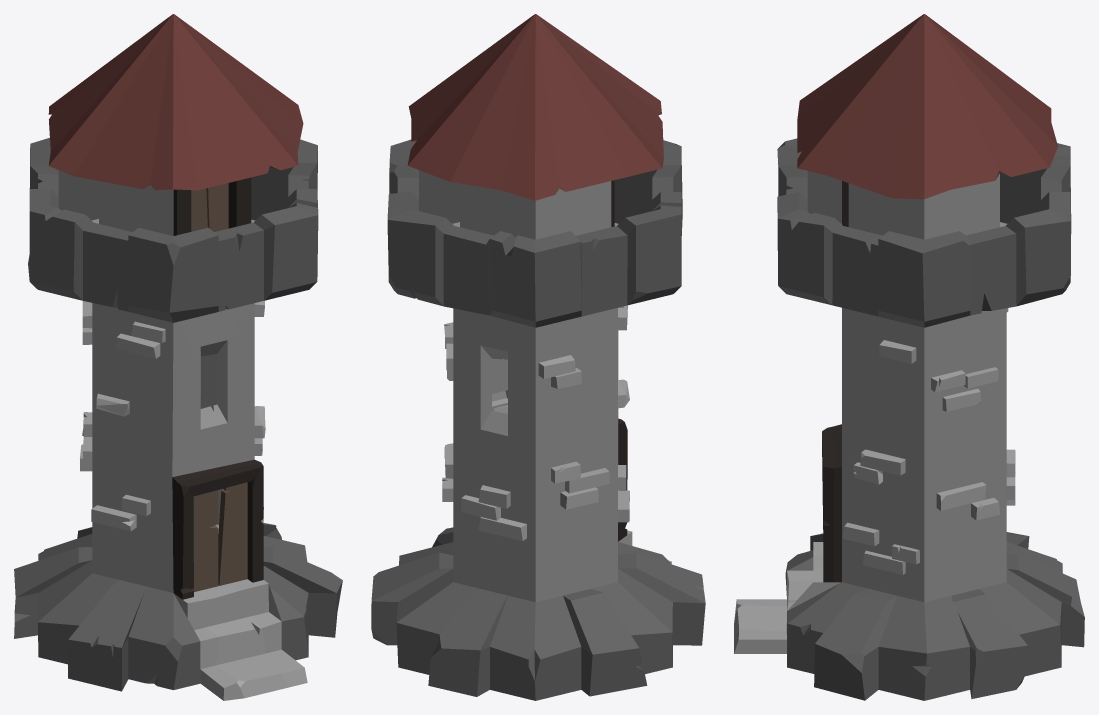
File: tree.fbx
The picture shows the model from 3 angles, left to right: view 1: azimuth 30°, elevation 25°; view 2: azimuth 150°, elevation 25°; view 3: azimuth 270°, elevation 25°; orthographic projection.
Visible parts, largest first — view 1: Cylinder; view 2: Cylinder; view 3: Cylinder.
Part boxes in pixels (x1=…): Cylinder: x1=14, y1=14, x2=342, y2=700; Cylinder: x1=371, y1=14, x2=705, y2=700; Cylinder: x1=734, y1=14, x2=1084, y2=700.
Size of the model in its own units: 2128 by 4309 by 2211.
